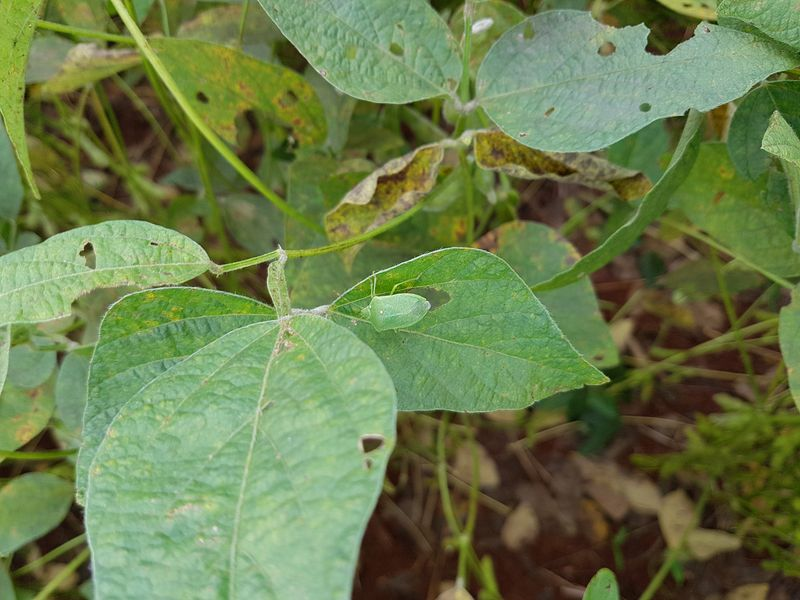Nezara_viridula_adulto: (340, 263, 443, 351)
